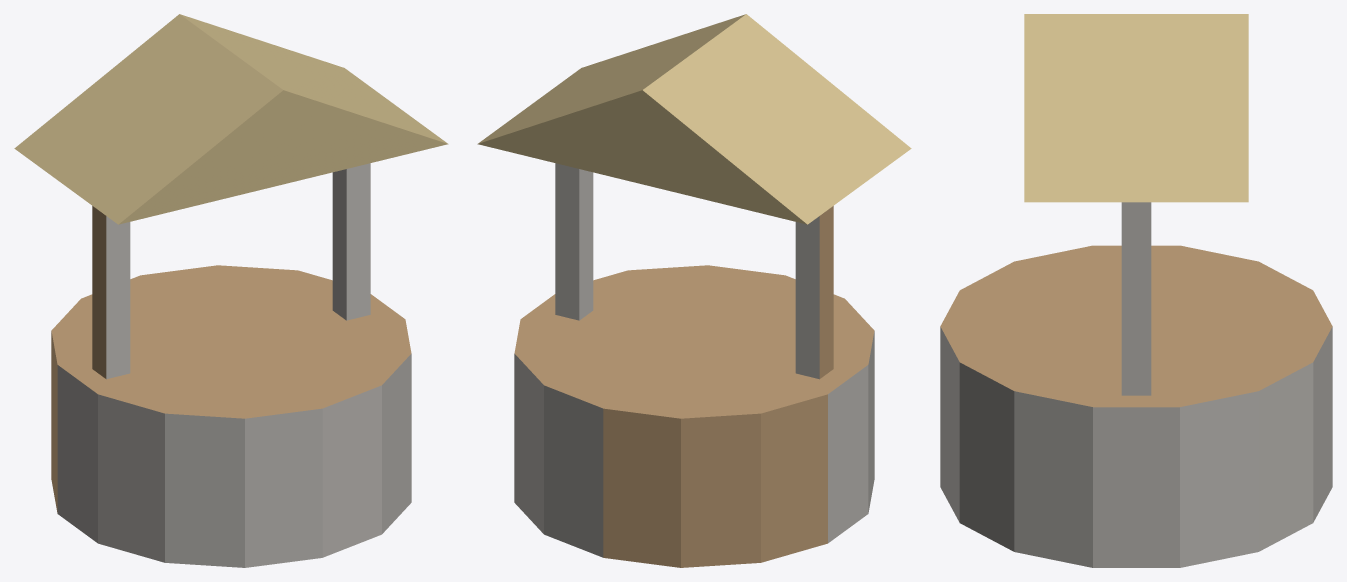
The model's file is PROP-well-01.glb.
3 views of the same model, side by side, from view 1: azimuth 30°, elevation 25°; view 2: azimuth 150°, elevation 25°; view 3: azimuth 270°, elevation 25° (orthographic). The views are drawn at different scales.
Visible parts, largest first — view 1: PROP-well-01; view 2: PROP-well-01; view 3: PROP-well-01.
Boxes of the visible parts, x1=… form: PROP-well-01: x1=14, y1=14, x2=448, y2=567; PROP-well-01: x1=477, y1=14, x2=911, y2=567; PROP-well-01: x1=940, y1=14, x2=1332, y2=567.
Bounding box in the file's own units: 2.2 × 2.79 × 2.1.
